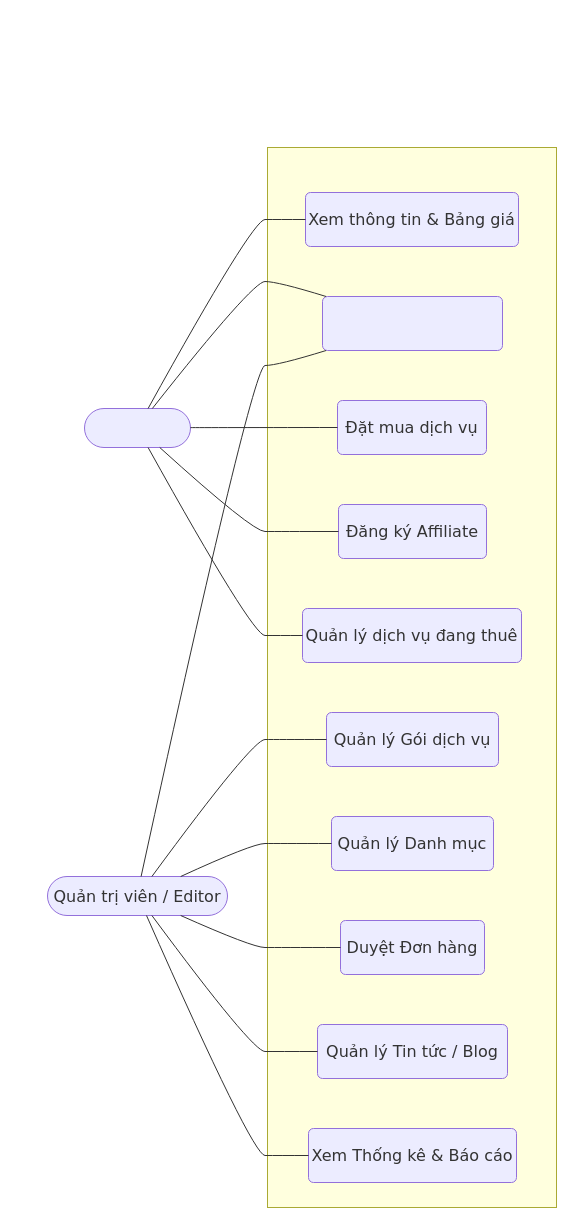
This 574x1225 diagram has some shape labels left out. Each missing label, with the box of its shape:
Hệ thống Website Bán Dịch vụ Cloud: (266, 146, 556, 1208)
Khách hàng: (84, 408, 190, 448)
Đăng ký / Đăng nhập: (322, 296, 502, 350)
